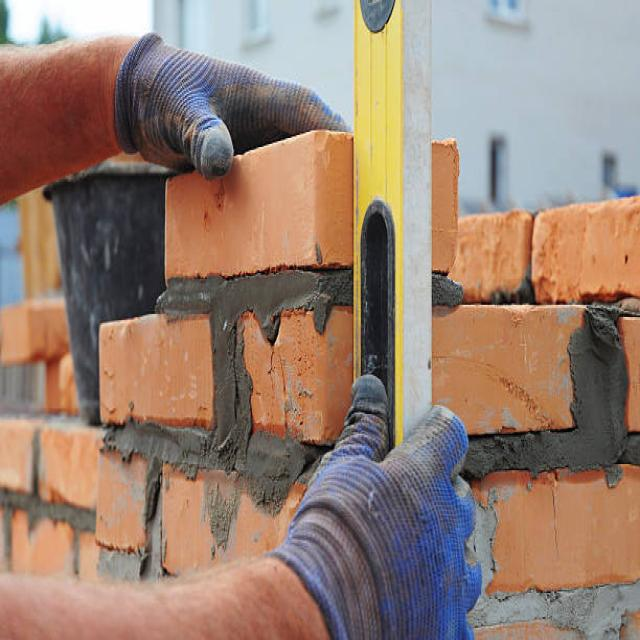gloves: (271, 370, 481, 640), (113, 33, 357, 176)
